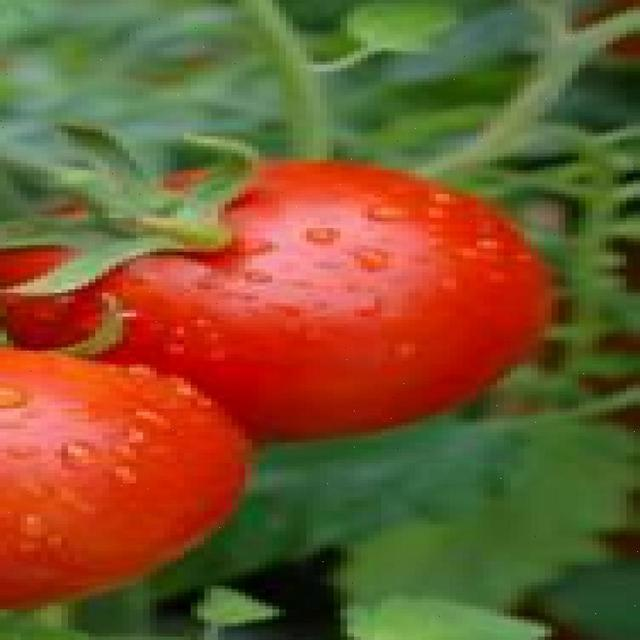Healthy Fruit: (84, 178, 348, 317)
